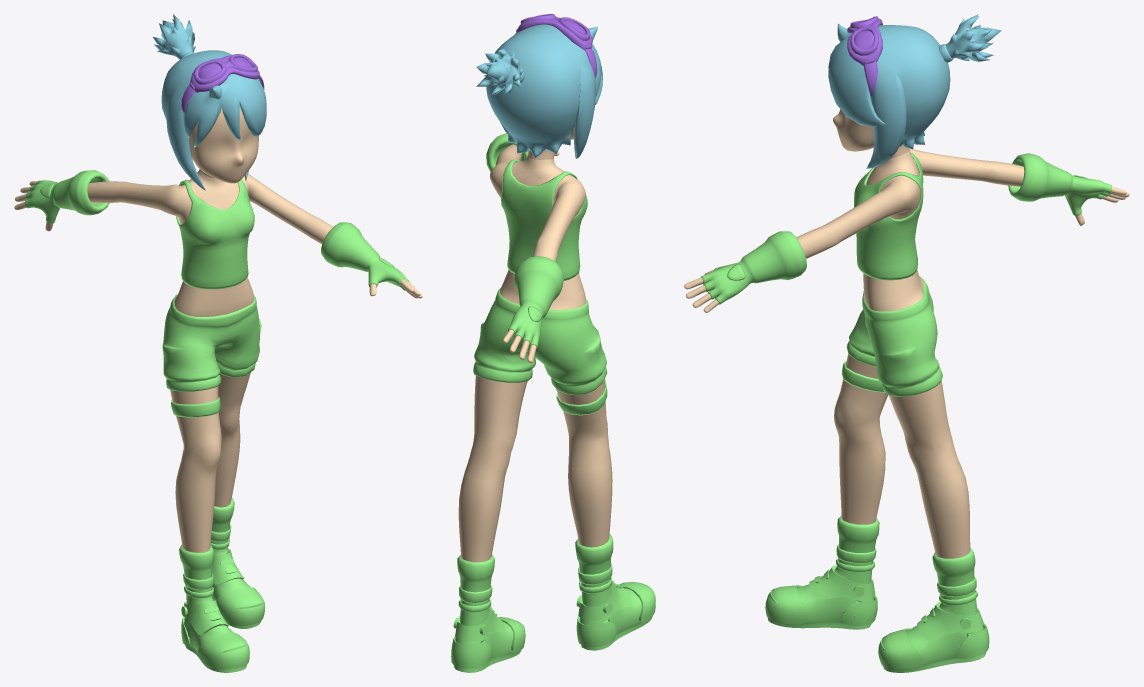
File: anime-longboard-rider.glb
3 views of the same model, side by side, from view 1: azimuth 30°, elevation 25°; view 2: azimuth 150°, elevation 25°; view 3: azimuth 270°, elevation 25° (orthographic). The views are drawn at different scales.
Parts seen in each view (by area): view 1: the kid.001, the kid.004, HAIR REF ORIGINAL.000, the kid.014, the kid.012; view 2: the kid.001, the kid.004, HAIR REF ORIGINAL.000, the kid.012; view 3: the kid.001, the kid.004, HAIR REF ORIGINAL.000, the kid.012, the kid.014.
Boxes of the visible parts, box(x1,y1,x2,y2) form: the kid.001: box(24, 170, 409, 672); the kid.004: box(14, 169, 422, 552); HAIR REF ORIGINAL.000: box(153, 14, 266, 190); the kid.014: box(189, 107, 258, 183); the kid.012: box(181, 54, 264, 112); the kid.001: box(451, 133, 655, 672); the kid.004: box(458, 144, 612, 562); HAIR REF ORIGINAL.000: box(476, 24, 602, 158); the kid.012: box(514, 14, 597, 77); the kid.001: box(701, 152, 1111, 672); the kid.004: box(684, 148, 1129, 558); HAIR REF ORIGINAL.000: box(828, 14, 1001, 169); the kid.012: box(847, 16, 882, 96); the kid.014: box(833, 109, 909, 158).
Bounding box in the file's own units: 0.6591 × 1.74 × 1.11.
